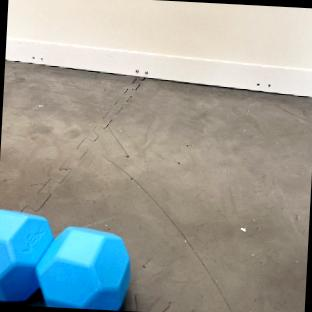V5_BLUE: (0, 210, 130, 310)
